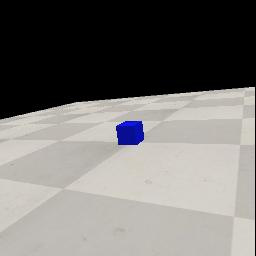box: (116, 121, 144, 145)
